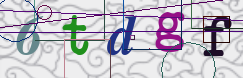6: (13, 15, 47, 57)
d: (105, 13, 138, 58)
f: (200, 14, 234, 59)
g: (153, 10, 187, 55)
t: (60, 12, 94, 57)
